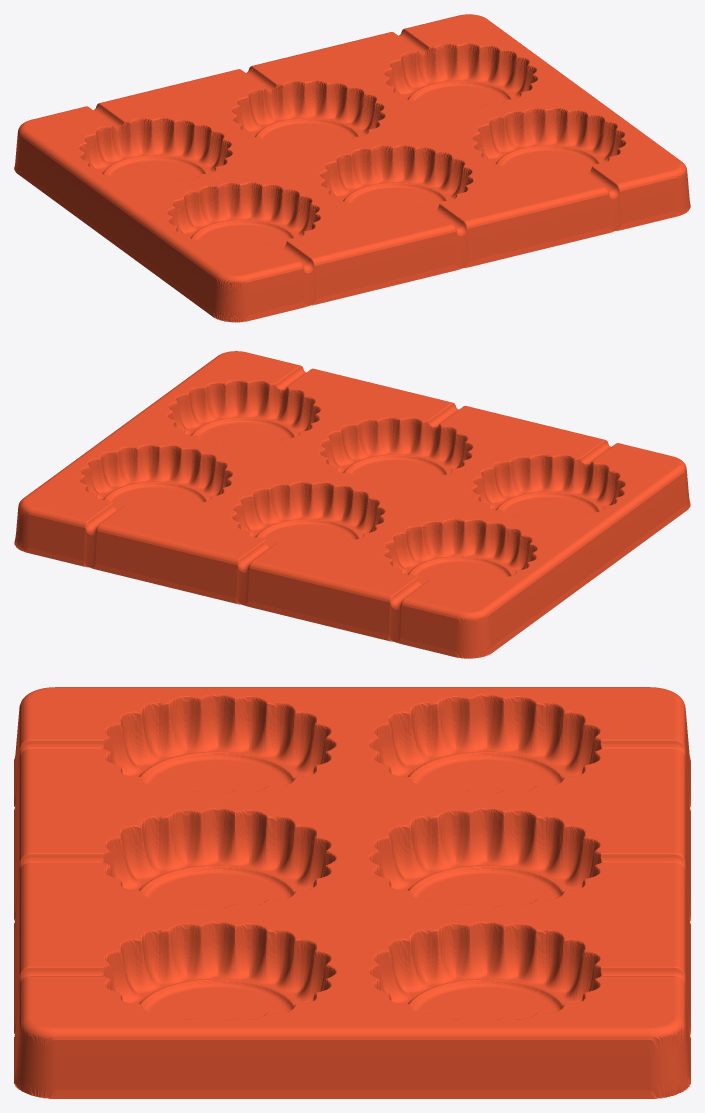
File: mold.glb
3 views of the same model, one above another, from view 1: azimuth 30°, elevation 25°; view 2: azimuth 150°, elevation 25°; view 3: azimuth 270°, elevation 25° (orthographic). The views are drawn at different scales.
Visible parts, largest first — view 1: geometry_0; view 2: geometry_0; view 3: geometry_0.
Boxes of the visible parts, x1,y1,x2,y2 form: geometry_0: (14,14,690,322); geometry_0: (14,351,690,658); geometry_0: (14,687,690,1098).
Bounding box in the file's own units: 0.1824 × 0.0155 × 0.1477.
